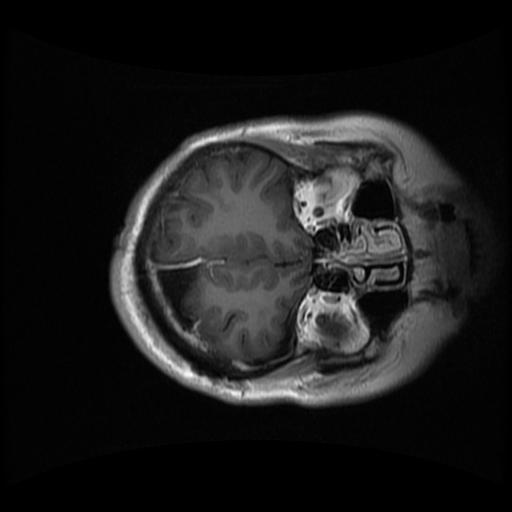glioma: (153, 262, 200, 333)
